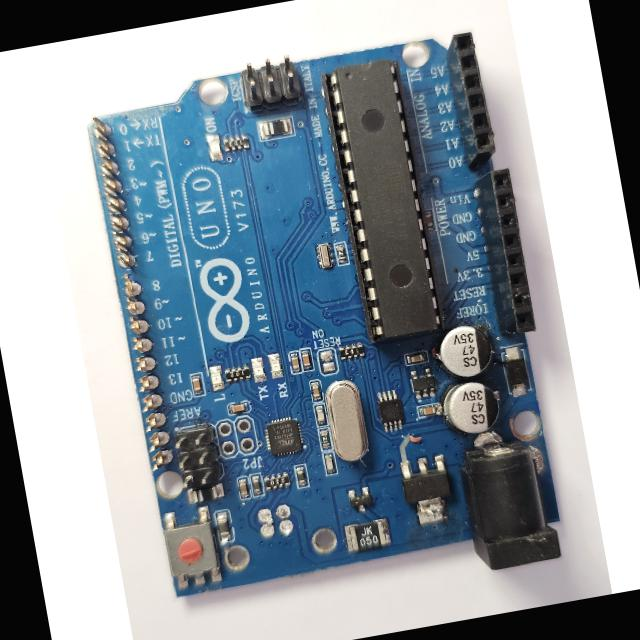missing_digital_pins: (77, 113, 178, 481)
missing_usb: (232, 486, 343, 578)
